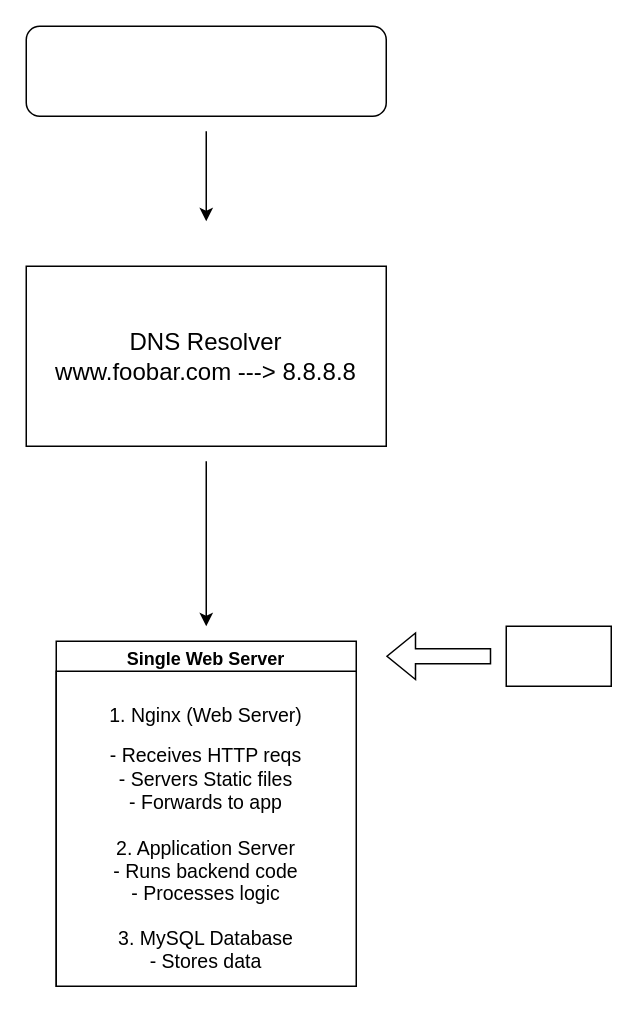
Some shapes in this 638 by 1013 pixel diagram are drawn without their labels. Here are the shapes that lost their labels. From the top down, the centre of each, then its label:
At (205,70): "Internet (User's browser)".
At (558,655): "IP: 8.8.8.8".
